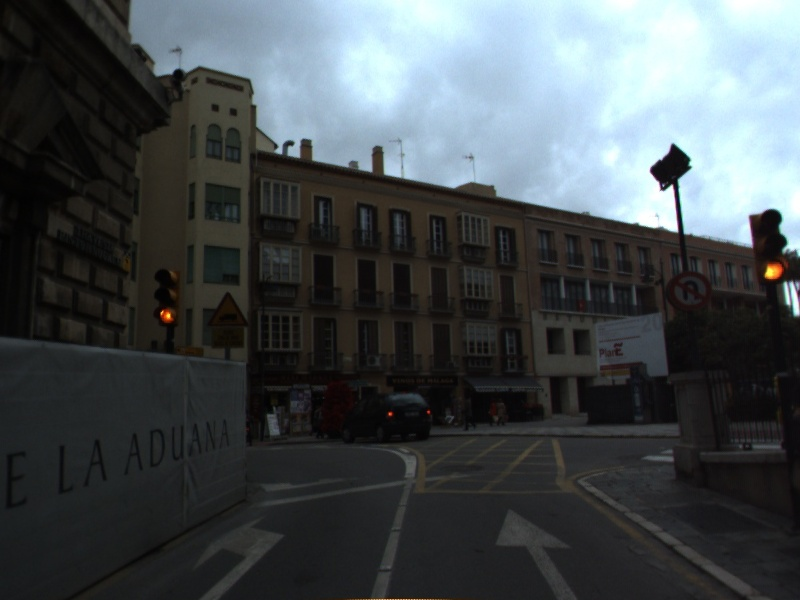LEFT: (190, 512, 289, 600)
STRAIGHT: (493, 506, 579, 600)
